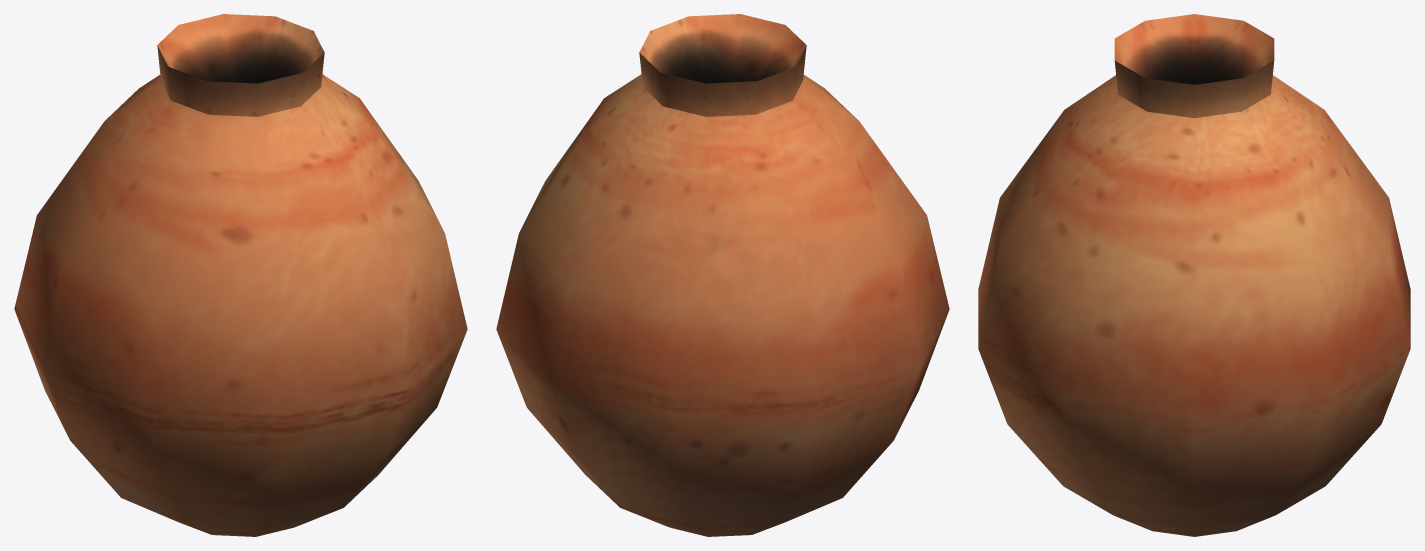
Rendered from vaseJupiter.fbx.
3 views of the same model, side by side, from view 1: azimuth 30°, elevation 25°; view 2: azimuth 150°, elevation 25°; view 3: azimuth 270°, elevation 25° (orthographic).
Visible parts, largest first — view 1: vase; view 2: vase; view 3: vase.
Part boxes in pixels (left/top/right/bottom): vase: left=14, top=14, right=467, bottom=536; vase: left=496, top=14, right=949, bottom=536; vase: left=978, top=14, right=1410, bottom=536.
Size of the model in its own units: 2.1 by 2.33 by 2.
